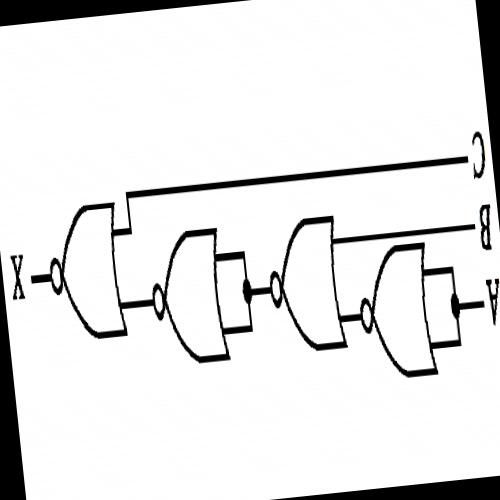nor: (348, 232, 443, 392), (141, 218, 232, 376), (39, 196, 130, 348), (259, 207, 348, 362)
